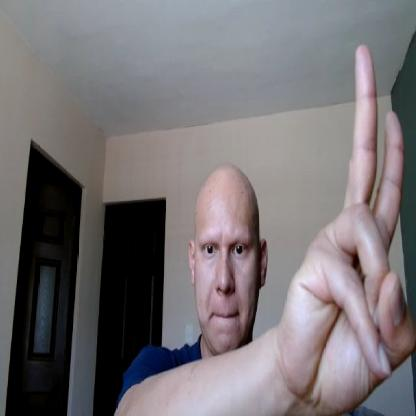V: (284, 43, 415, 415)
